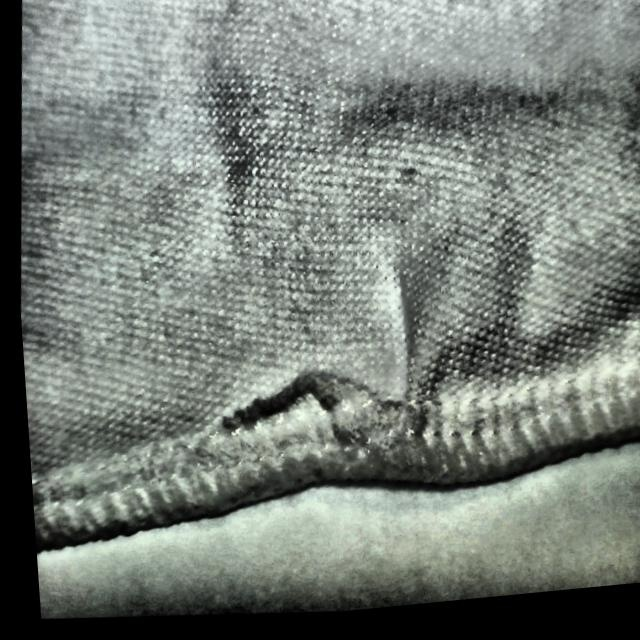seam: (212, 265, 473, 510)
